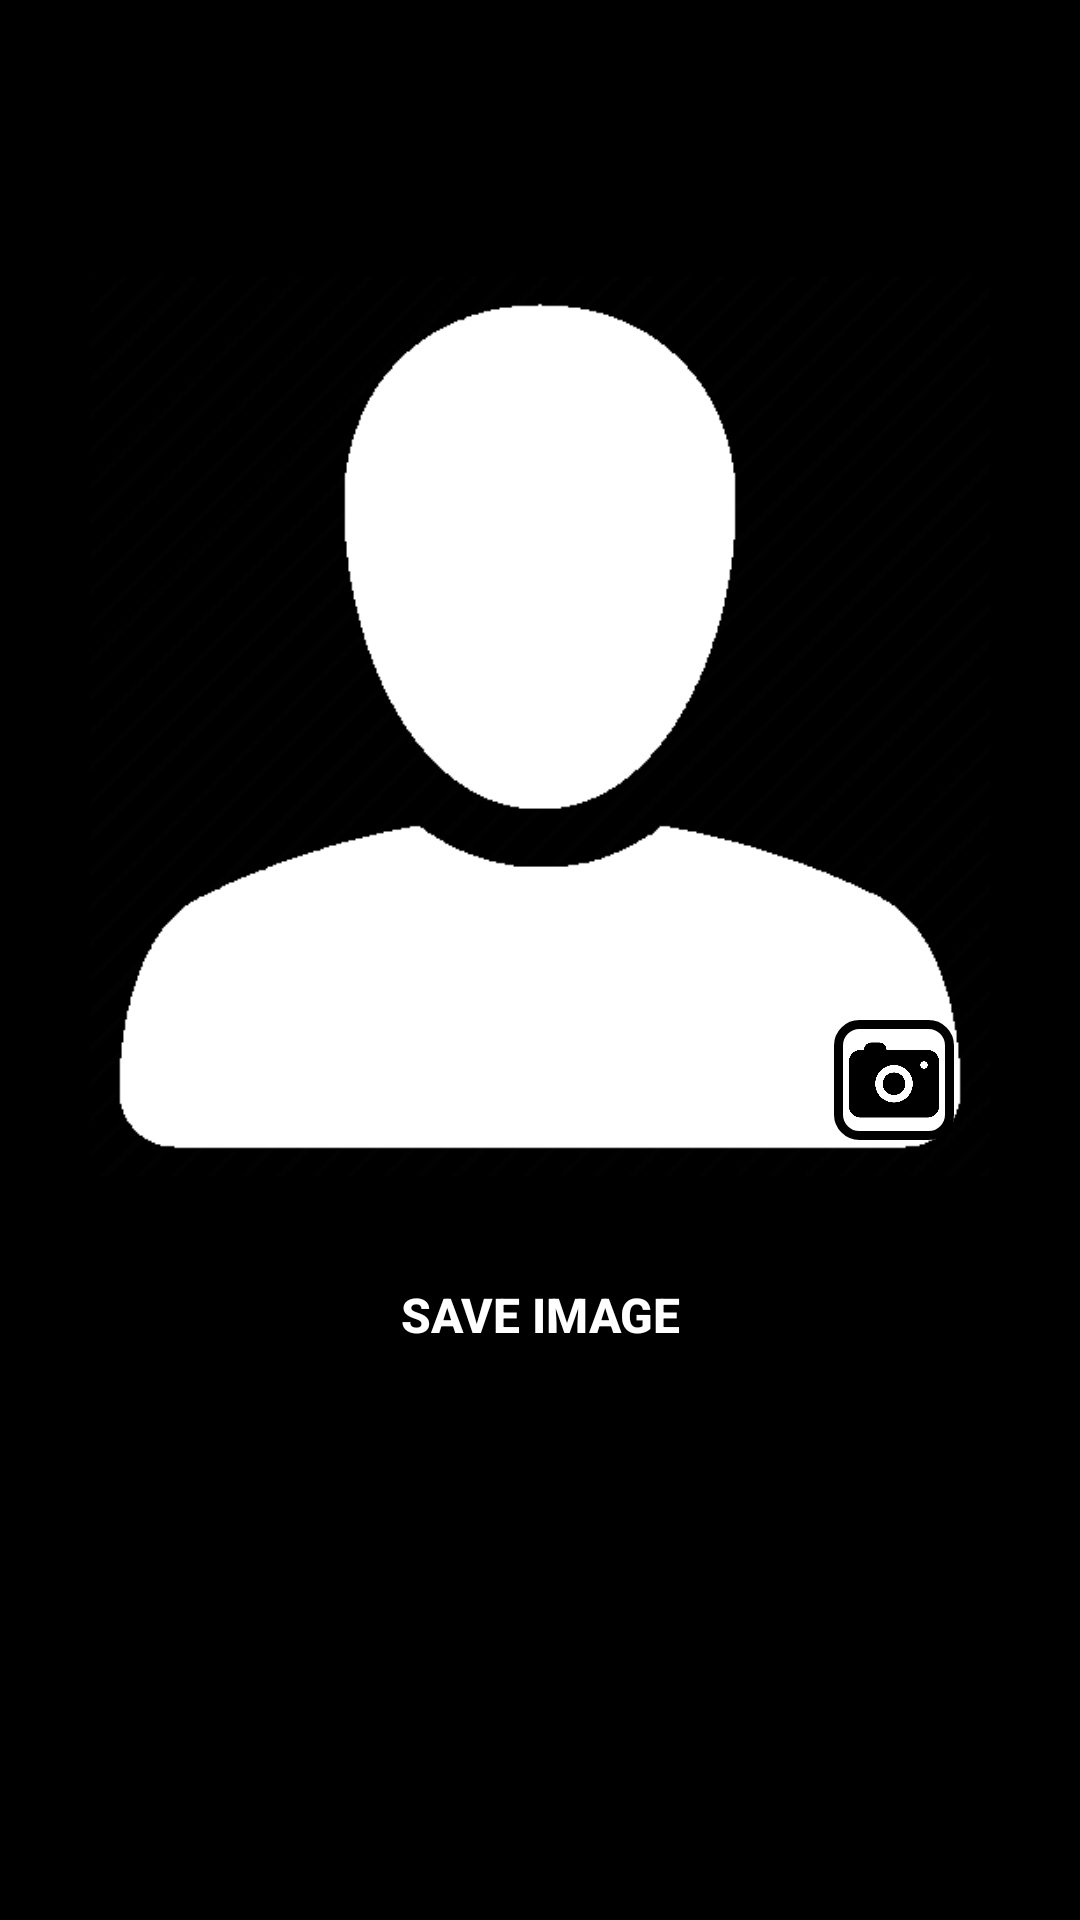

Icon bounding boxes for this 1080*1920 phone screenshot, format (x1, y1, x2, y2):
camera: (849, 1042, 939, 1118)
